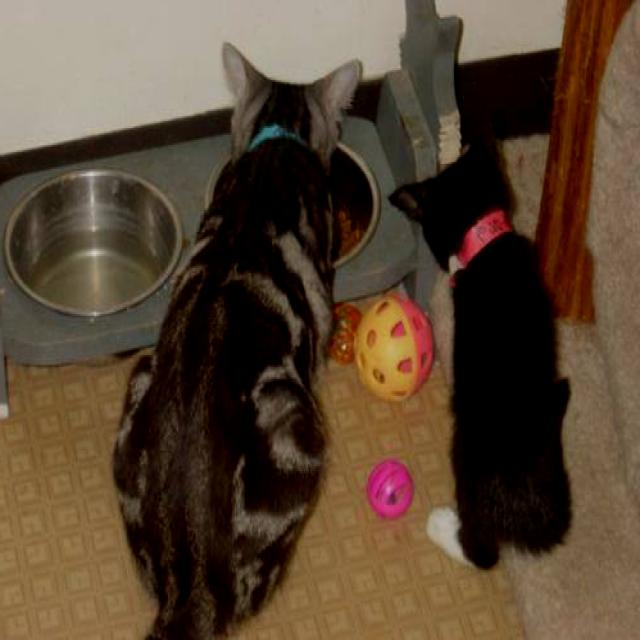Kucing: (38, 49, 380, 638), (381, 64, 562, 636)
